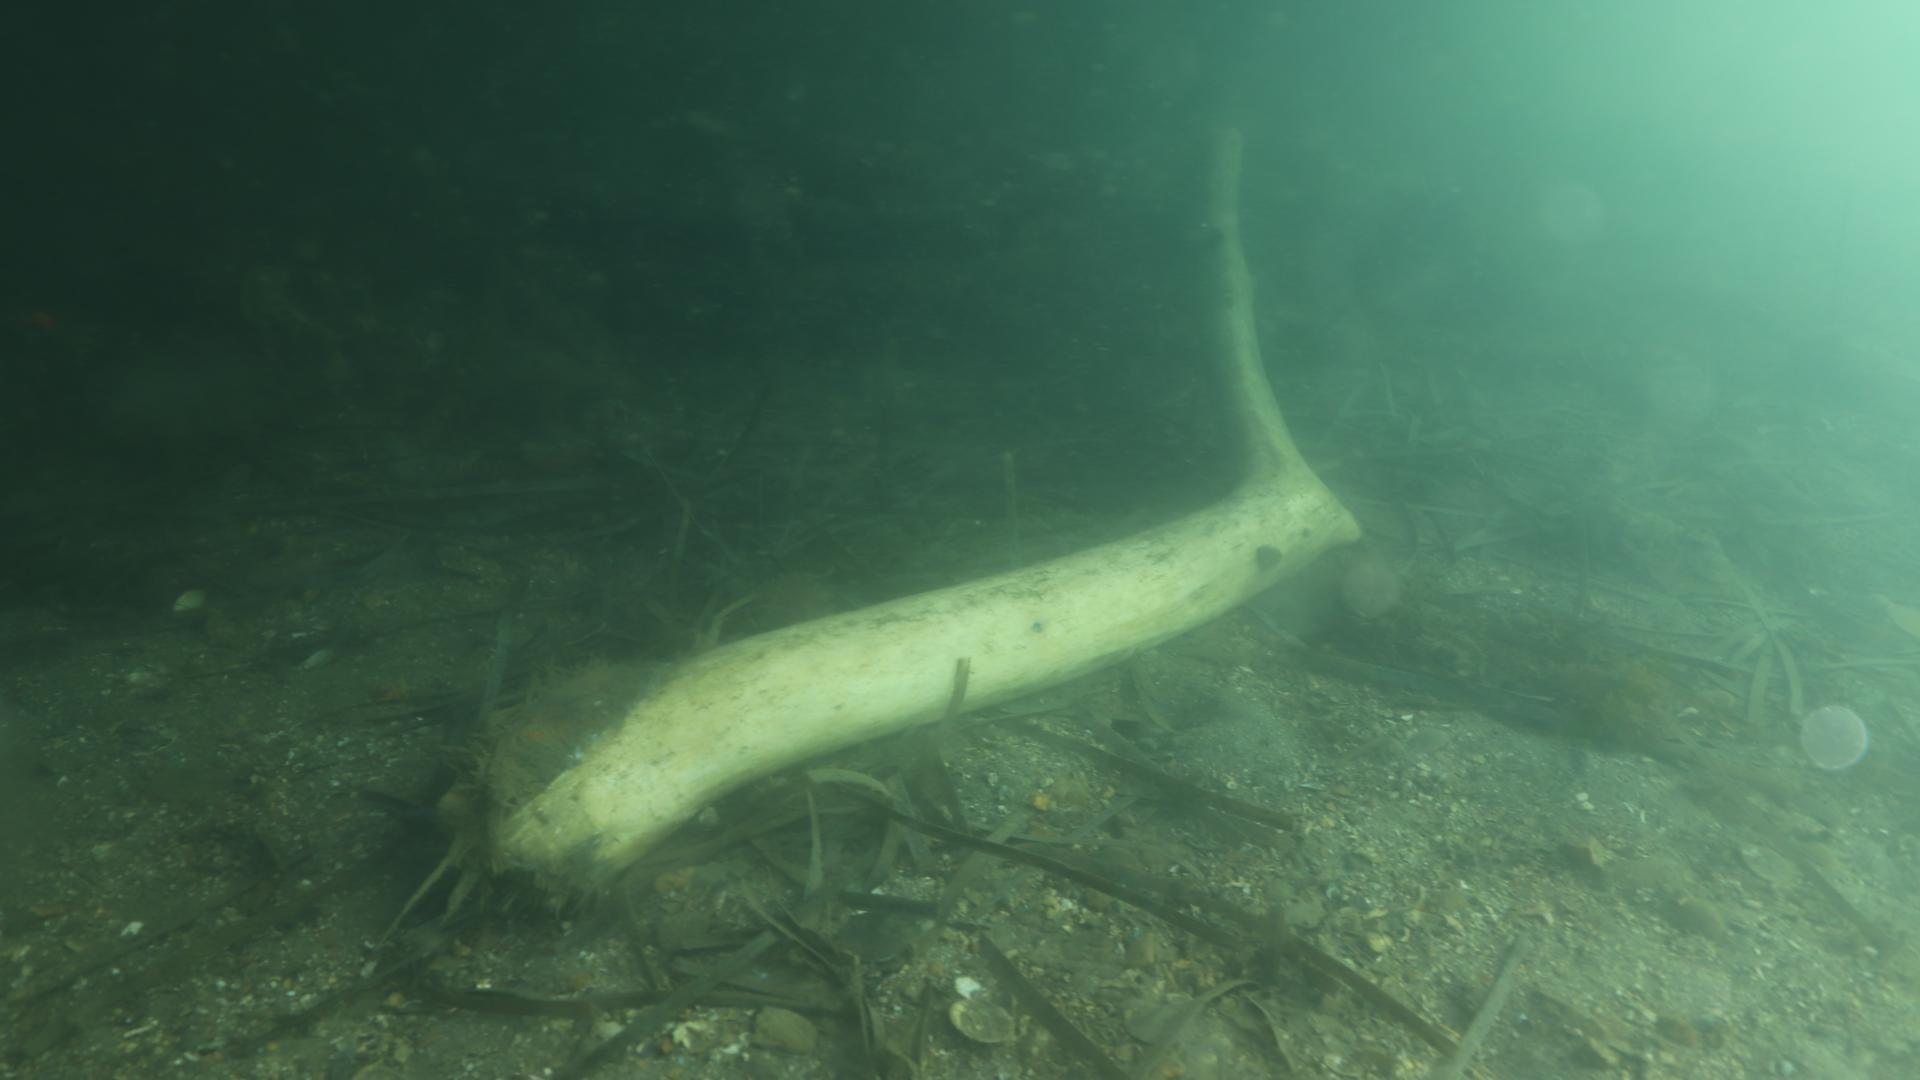wood: (392, 124, 1364, 948)
